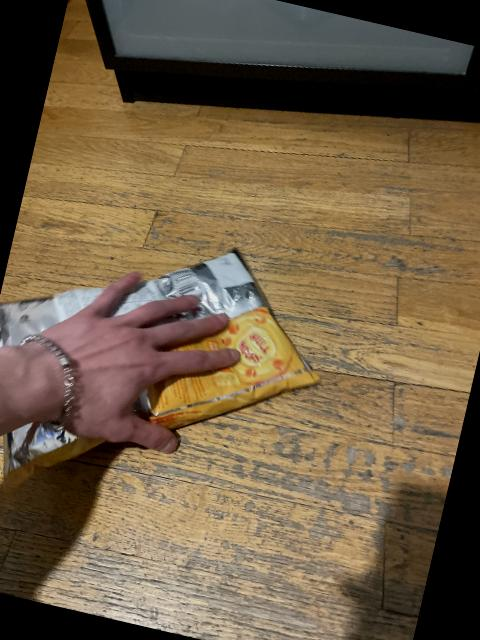Chio Hula Hoops Cheese 70g: (0, 200, 344, 543)
